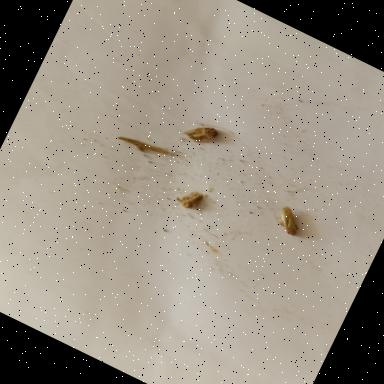pbw: (176, 114, 228, 155), (265, 201, 310, 242), (172, 181, 212, 216)
